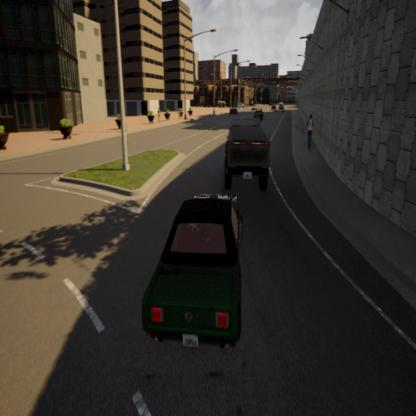Cars: (145, 188, 252, 360), (218, 119, 274, 195), (252, 105, 265, 121), (227, 105, 240, 119), (277, 101, 286, 112), (270, 103, 278, 111)
Pedestrian: (303, 111, 316, 150)
